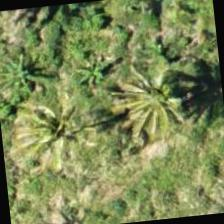Kelapa_Sawit: (119, 51, 218, 150), (0, 86, 89, 185)
